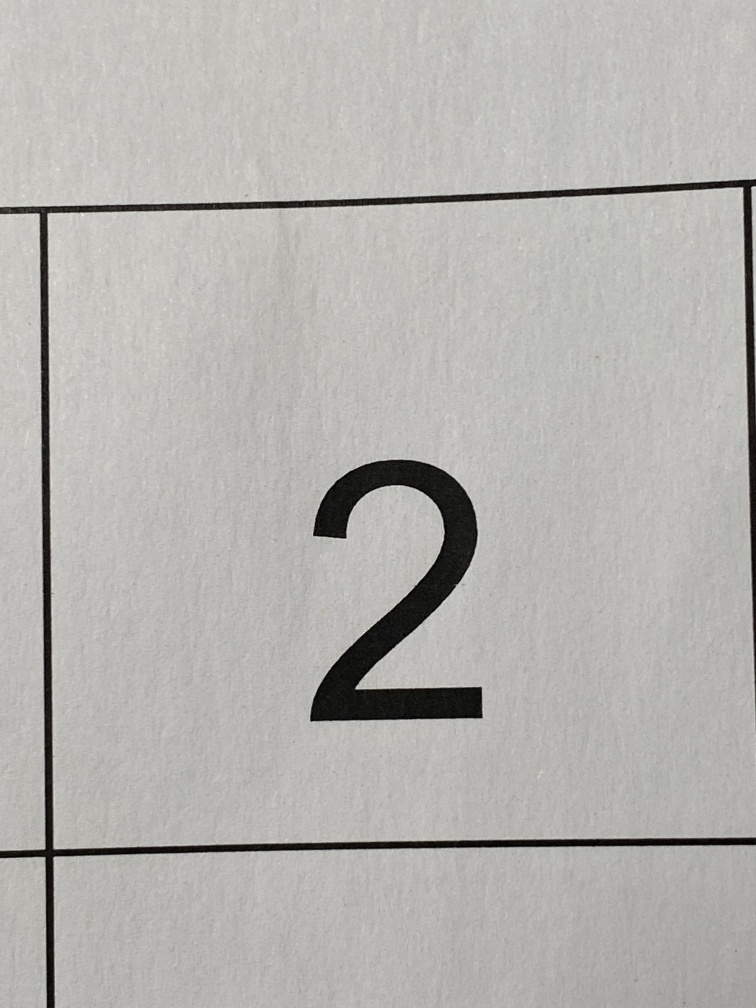two: (272, 423, 524, 797)
